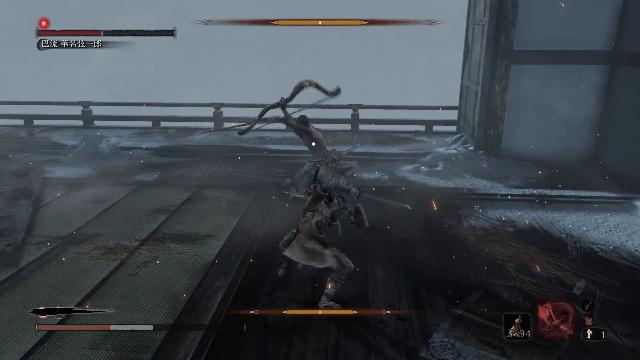sk: (267, 172, 368, 312)
